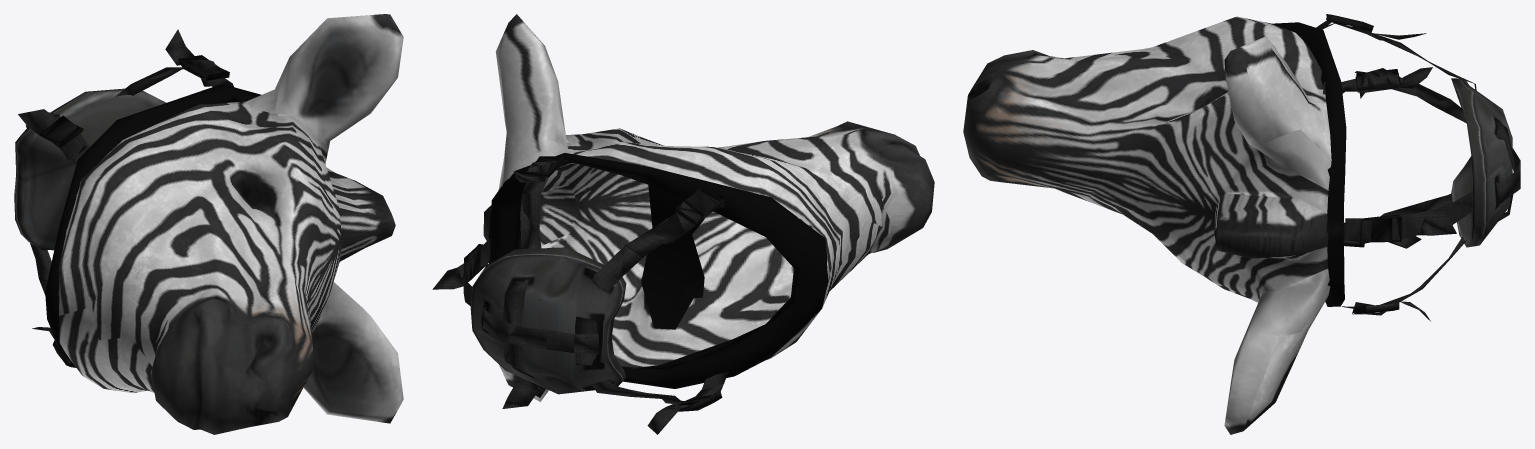
File: M_ZebraMask.fbx
The picture shows the model from 3 angles, left to right: view 1: azimuth 30°, elevation 25°; view 2: azimuth 150°, elevation 25°; view 3: azimuth 270°, elevation 25°; orthographic projection. The views are drawn at different scales.
Parts seen in each view (by area): view 1: ZebraMask.001; view 2: ZebraMask.001; view 3: ZebraMask.001.
Part boxes in pixels (x1=…): ZebraMask.001: x1=14, y1=14, x2=403, y2=434; ZebraMask.001: x1=432, y1=14, x2=934, y2=434; ZebraMask.001: x1=963, y1=14, x2=1520, y2=434.
Bounding box in the file's own units: 0.1904 × 0.2084 × 0.2741.
